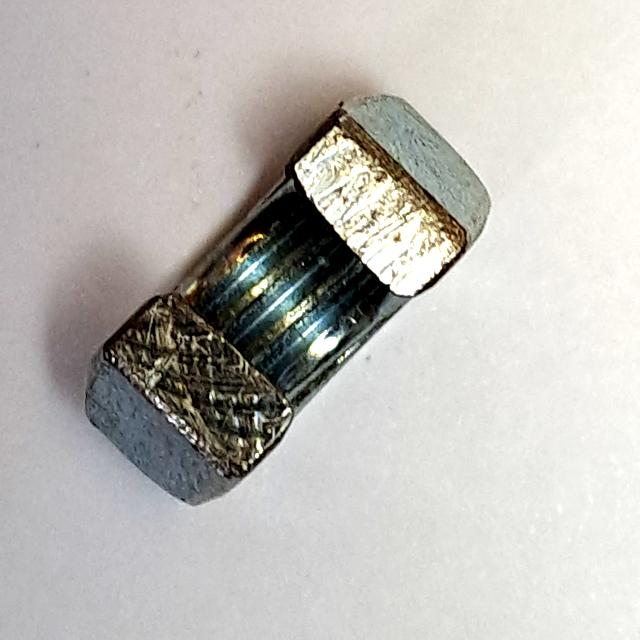Side-Fracture: (70, 81, 500, 517)
